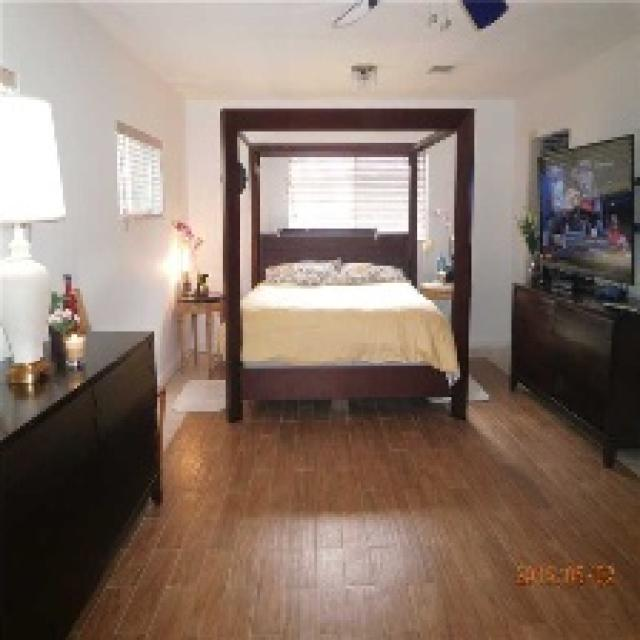Bed: (220, 226, 466, 420)
